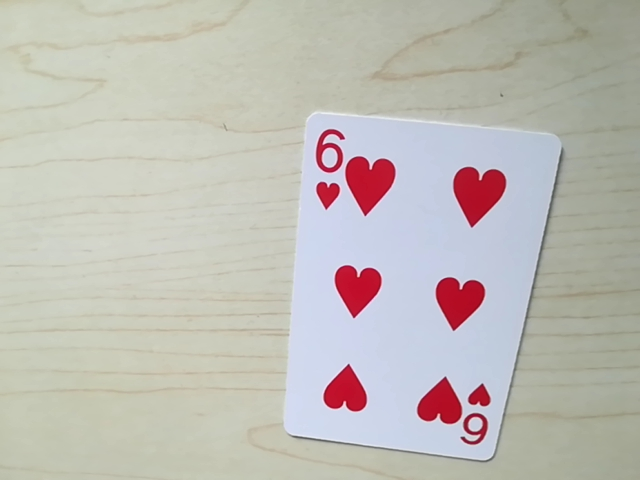hx 6: (306, 121, 348, 186), (453, 398, 496, 454)
